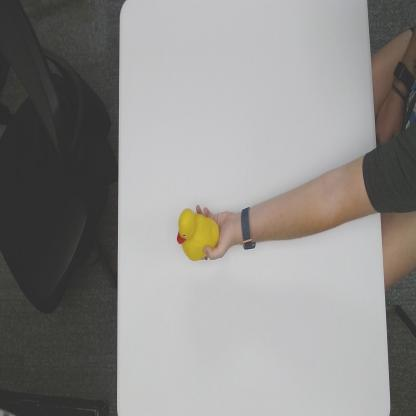Arm: (257, 149, 382, 244)
Duck: (176, 207, 221, 262)
Hand: (196, 202, 236, 263)
